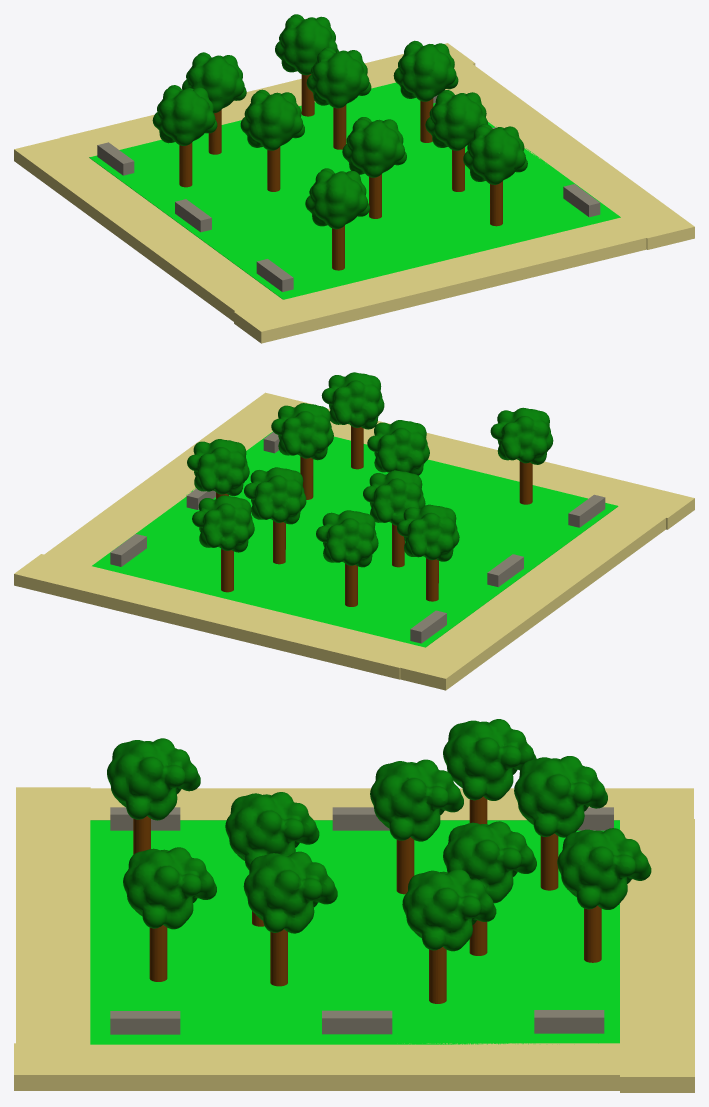
The model's file is park.fbx.
The picture shows the model from 3 angles, top to bottom: view 1: azimuth 30°, elevation 25°; view 2: azimuth 150°, elevation 25°; view 3: azimuth 270°, elevation 25°; orthographic projection. The views are drawn at different scales.
Parts seen in each view (by area): view 1: Cube, Mball, Cube.001, Cube.004, Cube.003, Cube.002, Cube.006, Cube.010, Cube.008, Cube.009, Cylinder.003, Cylinder.002 (+5 smaller); view 2: Cube, Mball, Cube.002, Cube.004, Cube.003, Cube.001, Cube.008, Cube.010, Cube.005, Cube.009, Cylinder, Cylinder.003 (+5 smaller); view 3: Cube, Mball, Cube.003, Cube.001, Cube.002, Cube.004, Cube.007, Cube.005, Cube.006, Cube.009, Cylinder.008, Cylinder.007 (+8 smaller).
Part boxes in pixels (bbox=[...]): Cube: bbox=[89, 82, 620, 299]; Mball: bbox=[152, 14, 527, 229]; Cube.001: bbox=[234, 218, 656, 343]; Cube.004: bbox=[14, 138, 284, 321]; Cube.003: bbox=[445, 64, 694, 249]; Cube.002: bbox=[60, 43, 475, 157]; Cube.006: bbox=[563, 184, 600, 217]; Cube.010: bbox=[97, 142, 134, 175]; Cube.008: bbox=[256, 259, 293, 291]; Cube.009: bbox=[175, 199, 211, 232]; Cylinder.003: bbox=[179, 142, 192, 187]; Cylinder.002: bbox=[267, 147, 280, 191]; Cube: bbox=[92, 431, 618, 647]; Mball: bbox=[187, 372, 553, 567]; Cube.002: bbox=[14, 554, 424, 679]; Cube.004: bbox=[399, 505, 667, 690]; Cube.003: bbox=[44, 392, 312, 566]; Cube.001: bbox=[298, 402, 694, 529]; Cube.008: bbox=[568, 494, 605, 527]; Cube.010: bbox=[410, 610, 446, 643]; Cube.005: bbox=[110, 534, 146, 566]; Cube.009: bbox=[487, 554, 523, 587]; Cylinder: bbox=[519, 461, 532, 504]; Cylinder.003: bbox=[426, 558, 438, 601]; Cube: bbox=[90, 820, 619, 1044]; Mball: bbox=[107, 719, 651, 951]; Cube.003: bbox=[14, 1043, 622, 1090]; Cube.001: bbox=[16, 787, 90, 1050]; Cube.002: bbox=[620, 819, 694, 1092]; Cube.004: bbox=[85, 788, 693, 820]; Cube.007: bbox=[322, 1010, 392, 1034]; Cube.005: bbox=[534, 1010, 604, 1033]; Cube.006: bbox=[110, 1011, 180, 1034]; Cube.009: bbox=[332, 807, 389, 830]; Cylinder.008: bbox=[149, 925, 167, 981]; Cylinder.007: bbox=[540, 833, 558, 890].
Size of the model in its own units: 7750 by 1790 by 7701.
